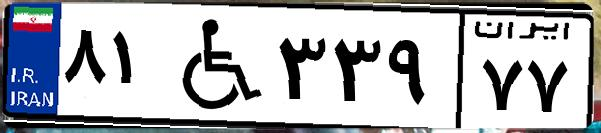1: (110, 28, 158, 98)
3: (270, 28, 330, 110), (330, 28, 385, 110)
7: (475, 38, 525, 113), (525, 38, 570, 115)
8: (57, 26, 110, 100)
9: (385, 28, 445, 110)
ژ (معلولین و جانبازان): (158, 12, 270, 120)
